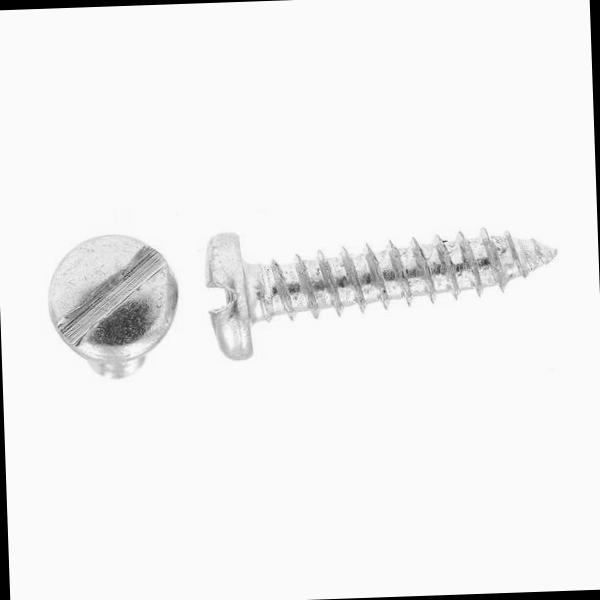screw: (50, 229, 181, 367)
